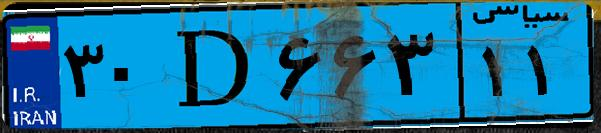0: (110, 28, 158, 98)
1: (475, 38, 525, 113), (525, 38, 570, 115)
3: (385, 28, 445, 110), (57, 26, 110, 100)
6: (270, 28, 330, 110), (330, 28, 385, 110)
D: (158, 12, 270, 120)
